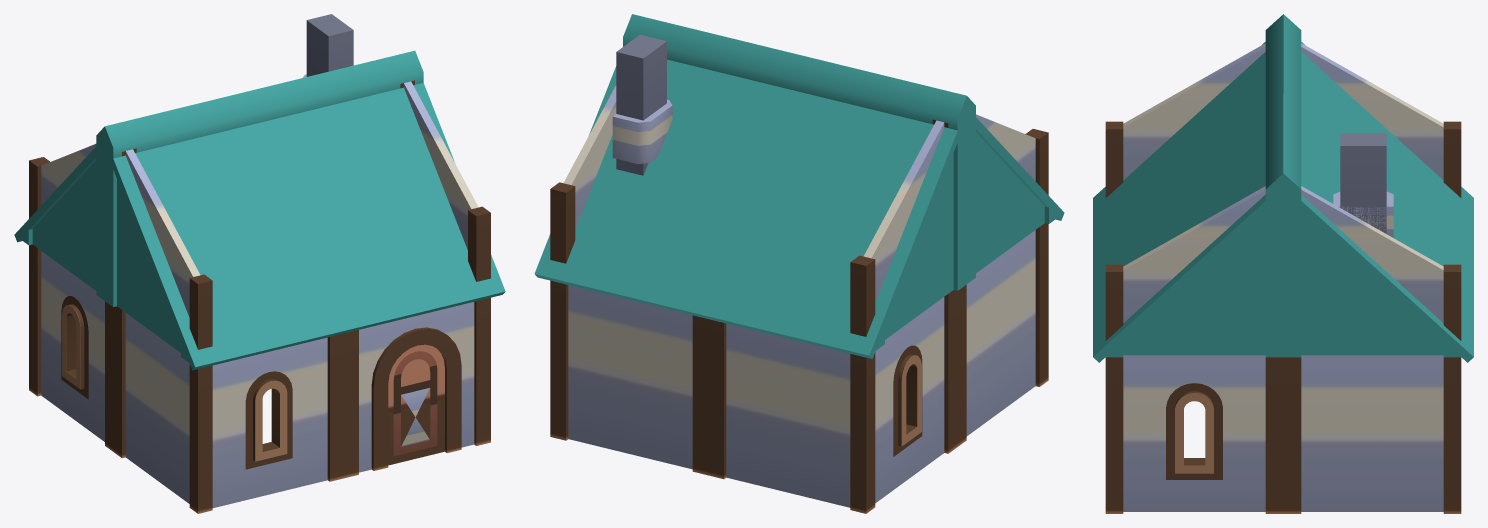
Rendered from maison-bois-2.glb.
The picture shows the model from 3 angles, left to right: view 1: azimuth 30°, elevation 25°; view 2: azimuth 150°, elevation 25°; view 3: azimuth 270°, elevation 25°; orthographic projection. The views are drawn at different scales.
Parts seen in each view (by area): view 1: roof-high, wall-window-round; view 2: roof-high, wall-window-round; view 3: wall-window-round, roof-high.
Part boxes in pixels (<box>): roof-high: <box>14,50,505,370</box>; wall-window-round: <box>29,14,490,513</box>; roof-high: <box>534,14,1064,358</box>; wall-window-round: <box>550,34,1048,513</box>; wall-window-round: <box>1105,43,1461,513</box>; roof-high: <box>1093,14,1473,362</box>.
Bounding box in the file's own units: 6.36 × 6.6 × 6.42.
Materials: 2 (1 with a texture image).
